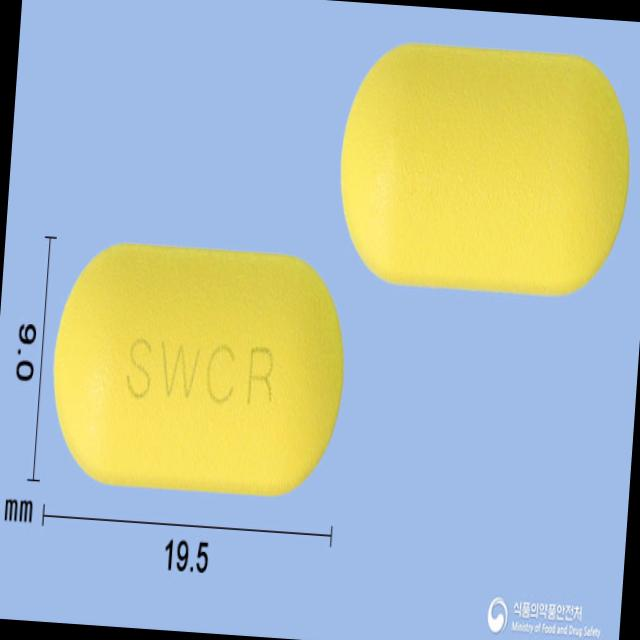Clath: (43, 233, 354, 502)
